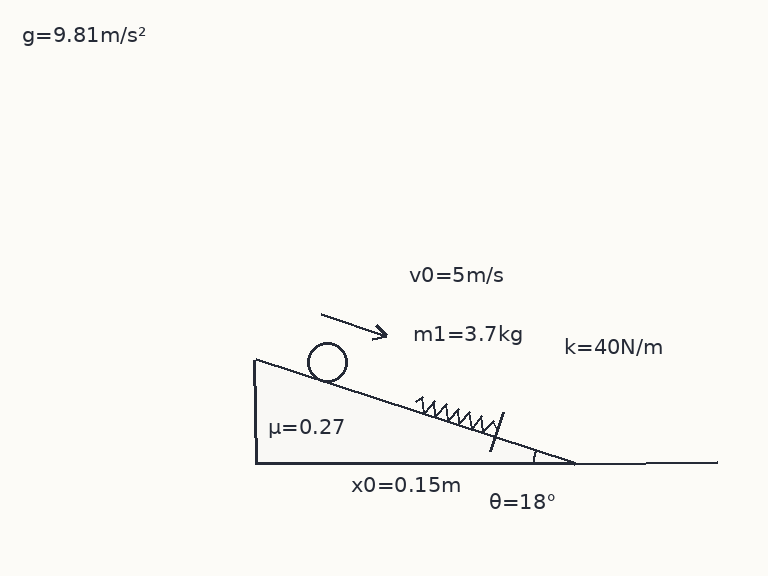ball: (305, 340, 349, 384)
ramp: (253, 357, 576, 465)
spring: (412, 395, 499, 433)
